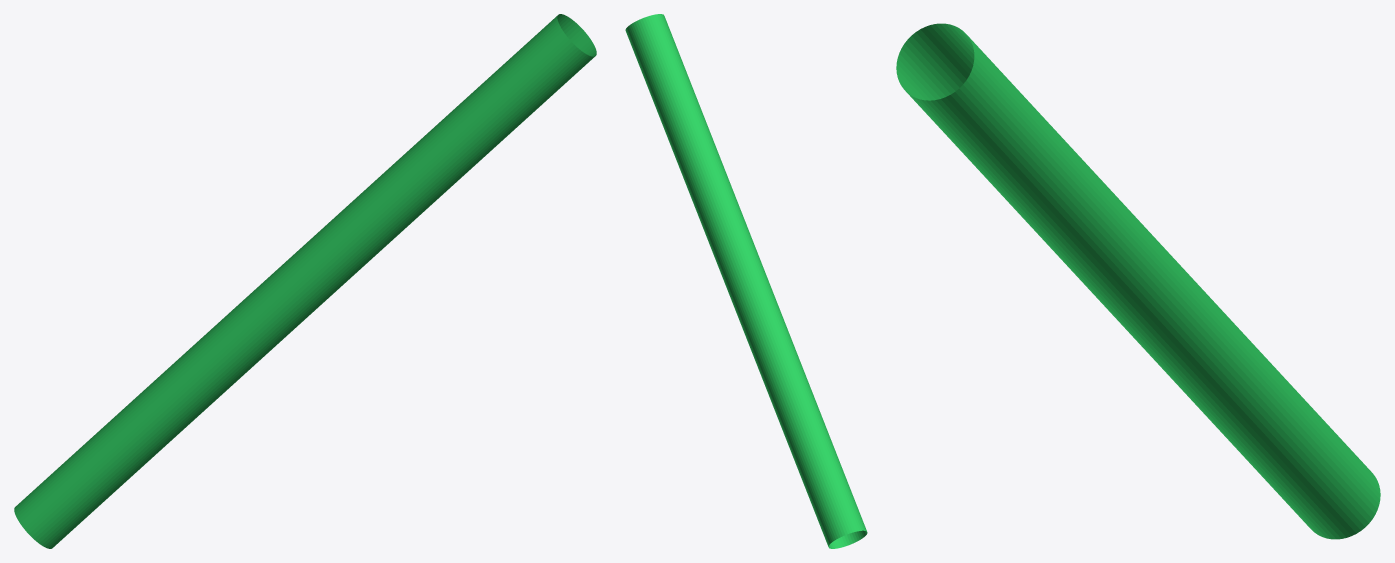
The picture shows the model from 3 angles, left to right: view 1: azimuth 30°, elevation 25°; view 2: azimuth 150°, elevation 25°; view 3: azimuth 270°, elevation 25°; orthographic projection. The views are drawn at different scales.
Parts seen in each view (by area): view 1: pipe_3; view 2: pipe_3; view 3: pipe_3.
Boxes of the visible parts, x1,y1,x2,y2 form: pipe_3: [14, 14, 596, 548]; pipe_3: [625, 14, 867, 548]; pipe_3: [896, 23, 1380, 539].
Size of the model in its own units: 3.3 by 2.08 by 3.74.
